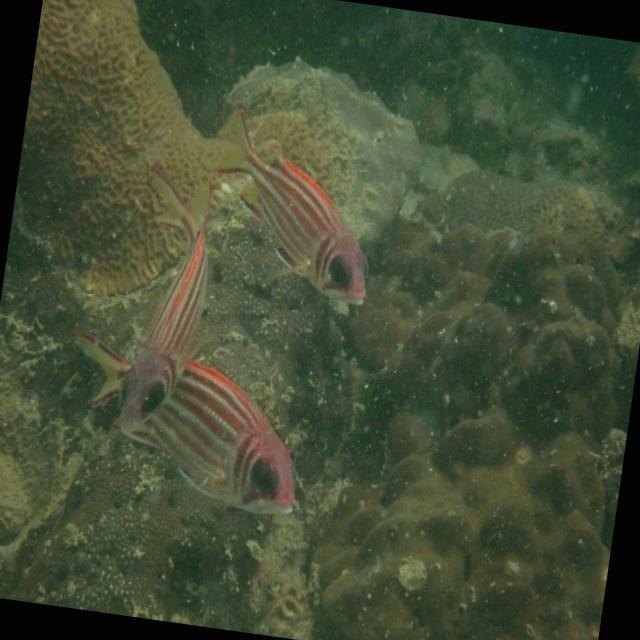Asker Baligi: (52, 156, 340, 521), (198, 99, 391, 309)
